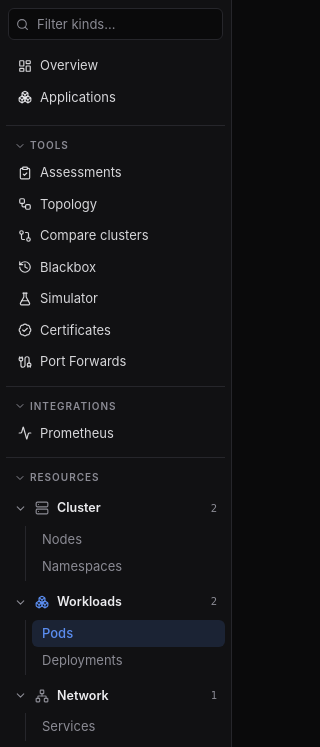
Test: ResourceNav layout › shows the open kind inside a collapsed Resources section as the marker
Click the button "Resources" at (116, 473), box [6,457,225,489]
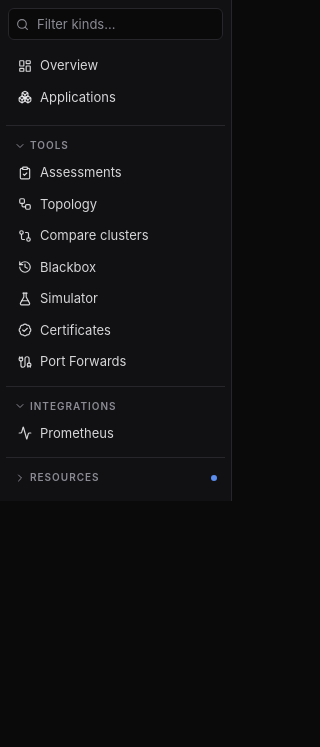
Result: the element named "contains the current page" is shown at [211,474,217,480]
